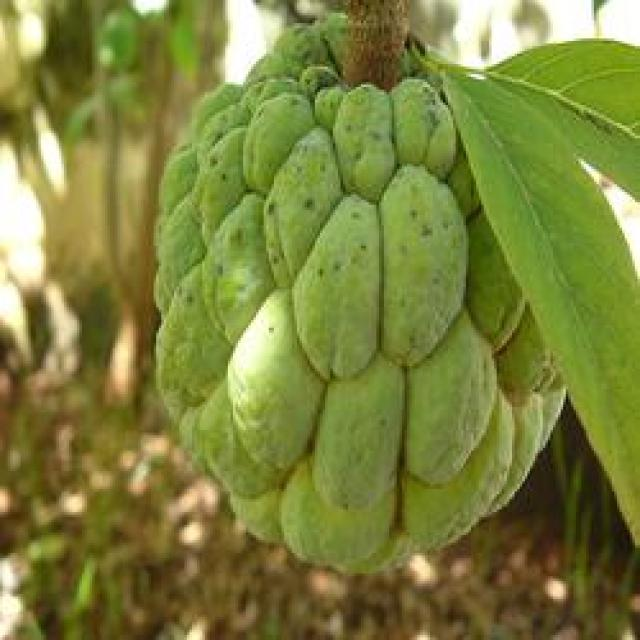apple: (136, 13, 586, 571)
